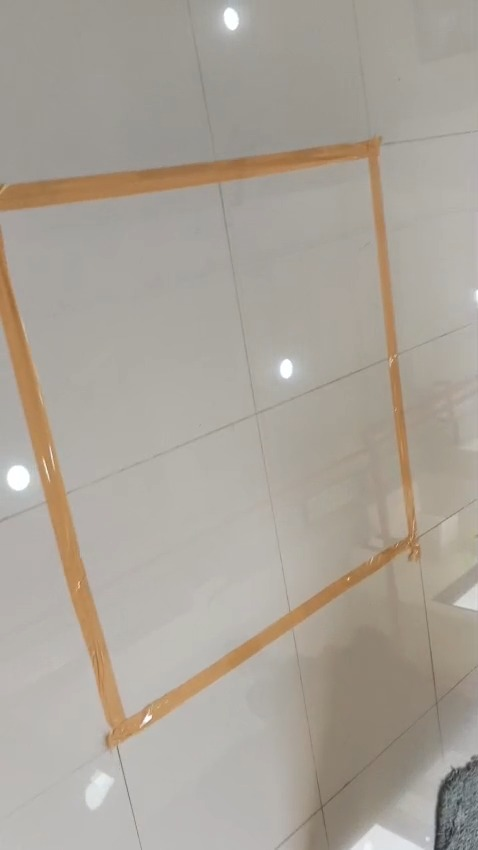floor marking: (0, 137, 419, 744)
